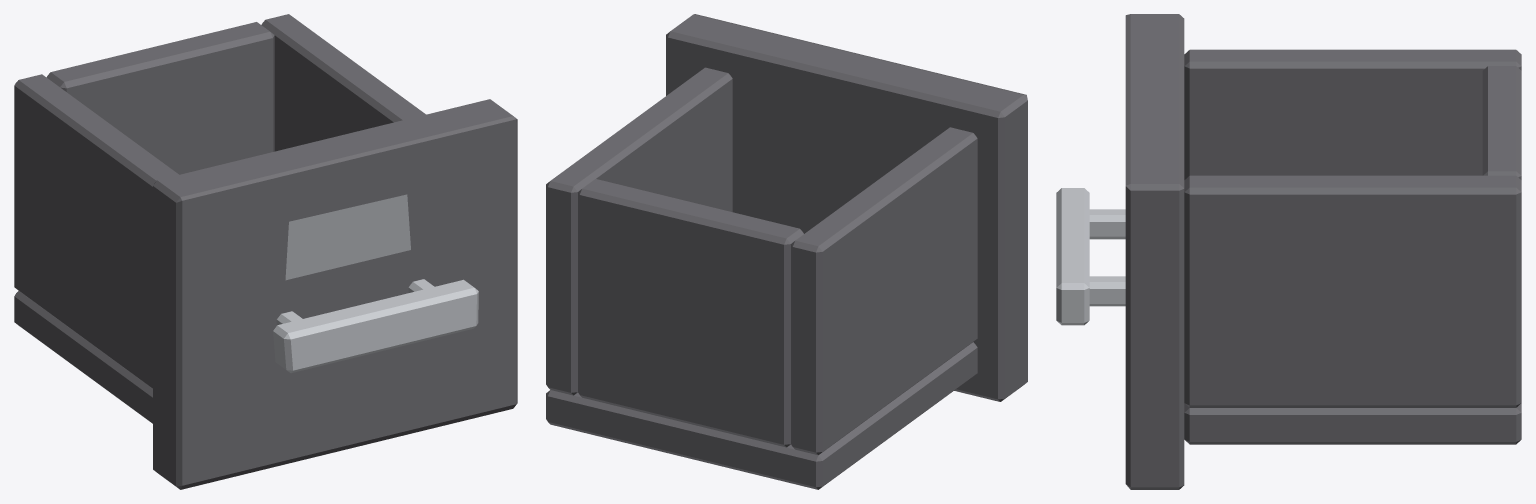
Rendered from Shelving_4_box_3.fbx.
3 views of the same model, side by side, from view 1: azimuth 30°, elevation 25°; view 2: azimuth 150°, elevation 25°; view 3: azimuth 270°, elevation 25° (orthographic). The views are drawn at different scales.
Parts seen in each view (by area): view 1: Shelving_4_box_3; view 2: Shelving_4_box_3; view 3: Shelving_4_box_3.
Part boxes in pixels (bbox=[...]): Shelving_4_box_3: bbox=[14, 14, 517, 489]; Shelving_4_box_3: bbox=[546, 14, 1027, 489]; Shelving_4_box_3: bbox=[1056, 14, 1521, 489].
Bounding box in the file's own units: 0.3336 × 0.2733 × 0.3762.
